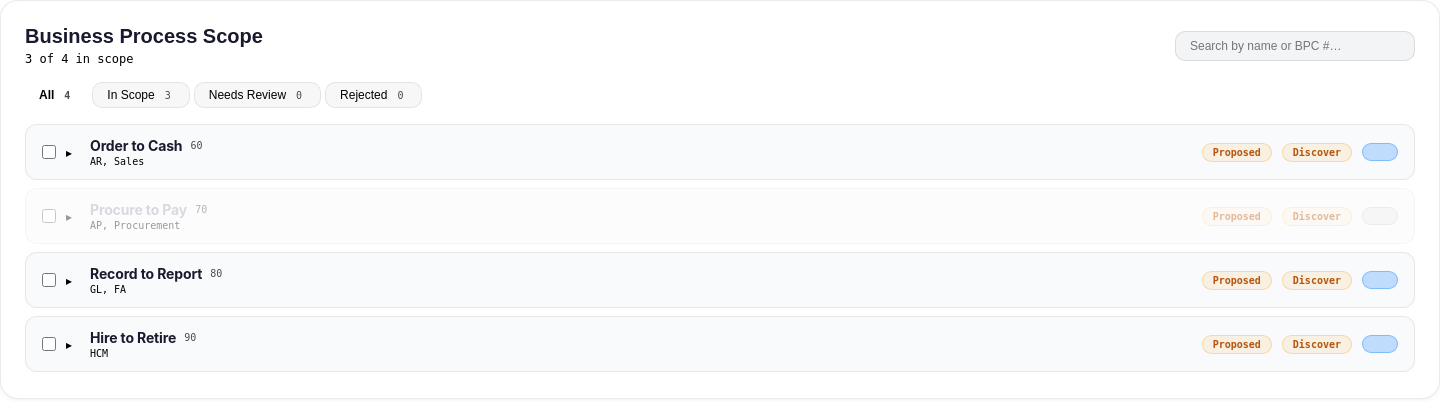
Test case: BusinessProcessPage Review UX › Filter tabs › filters to rejected processes when Rejected tab clicked
This screenshot has width=1440, height=416.
By default none are rejected, so tab shows empty
Click the button with test id "filter-rejected" at (374, 95), box [325,82,422,108]
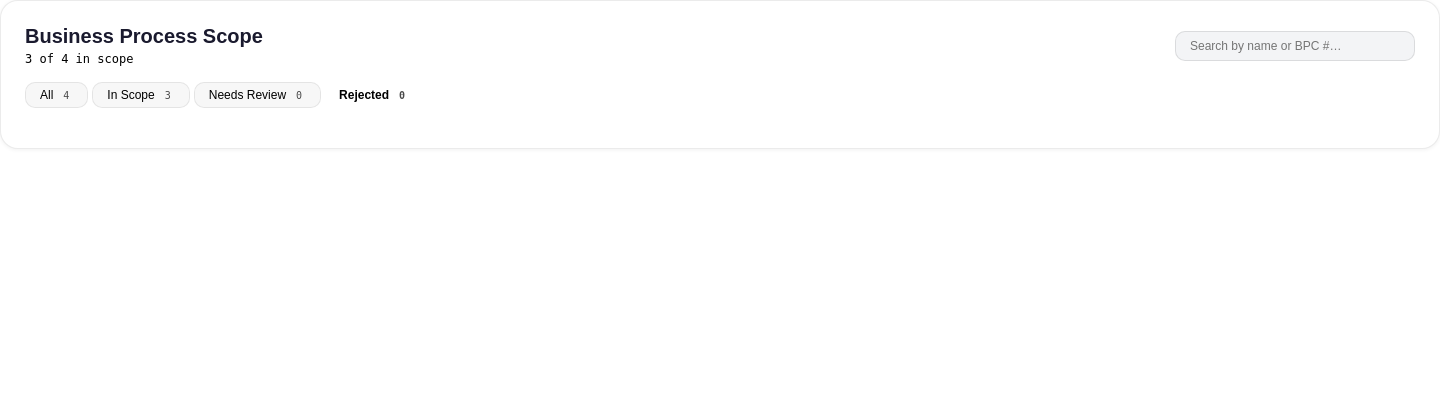
Expected: the element with test id "process-card-e1" is gone
Expected: the element with test id "process-card-e2" is gone
